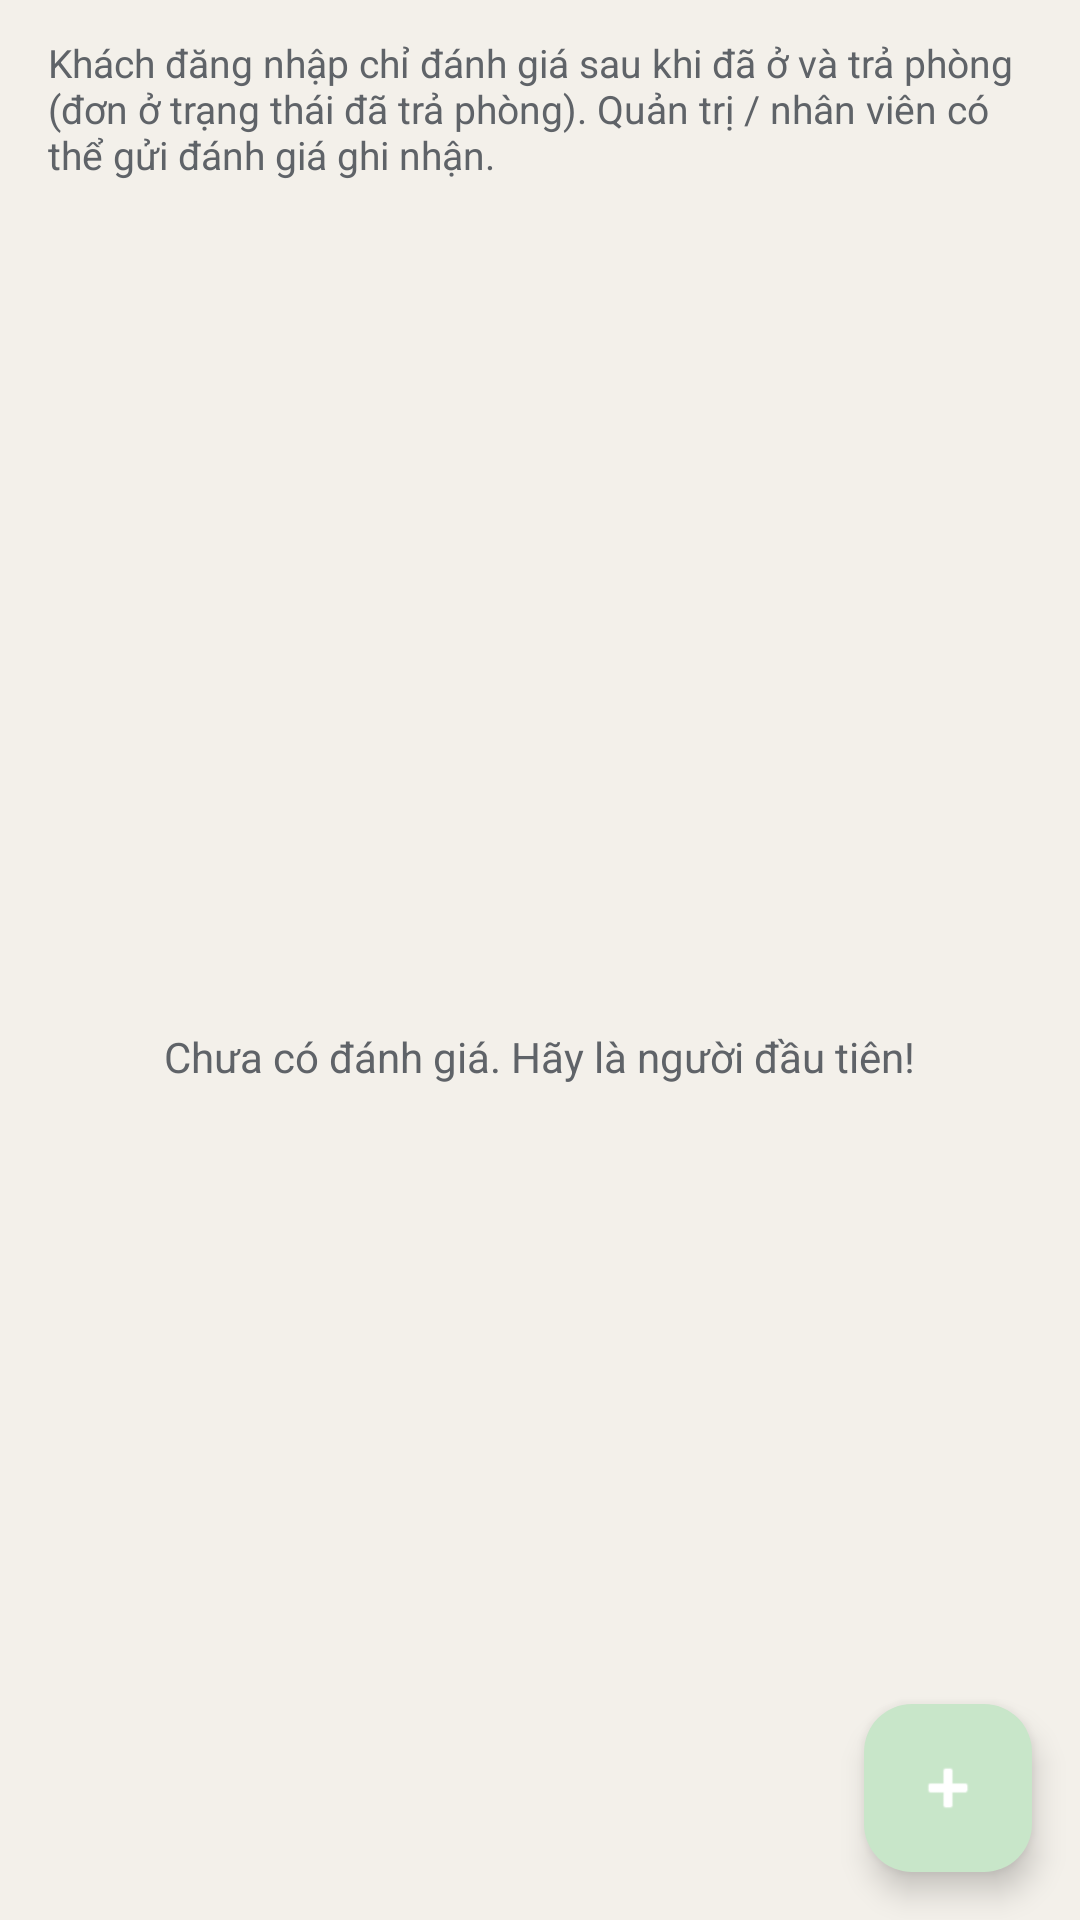

Icons on this 1080 × 1920 Android screen, each with the point to tap as [x,y]:
Thêm đánh giá: [948,1788]
